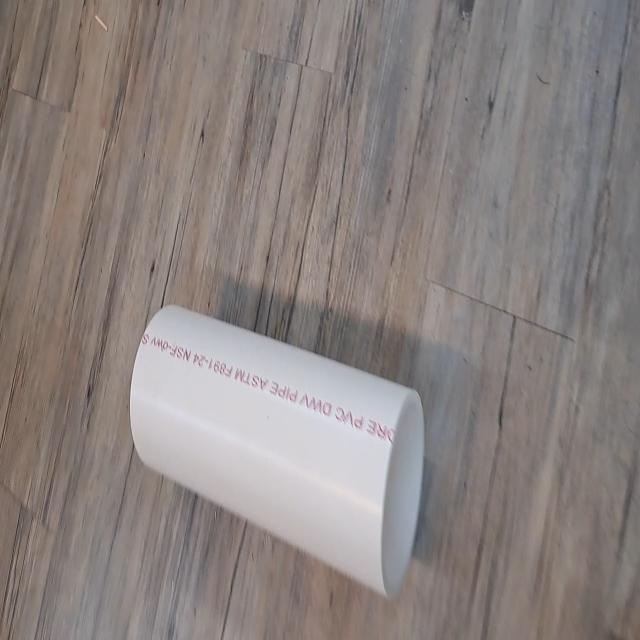CORAL: (125, 295, 428, 603)
